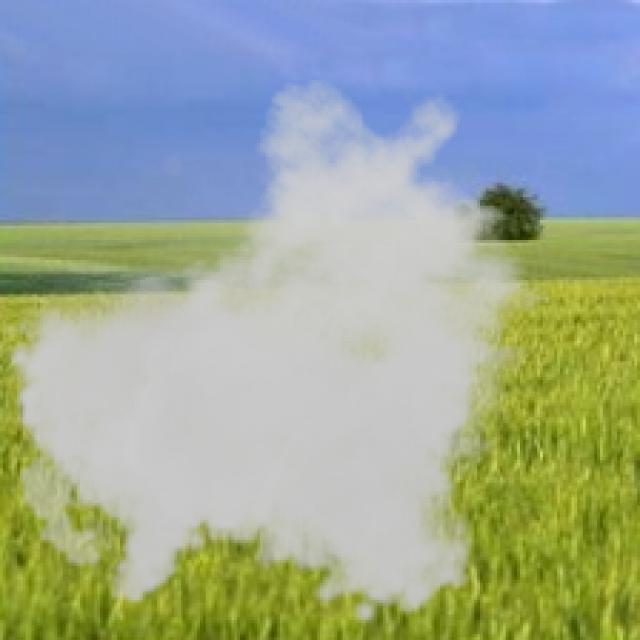smoke: (3, 77, 571, 629)
